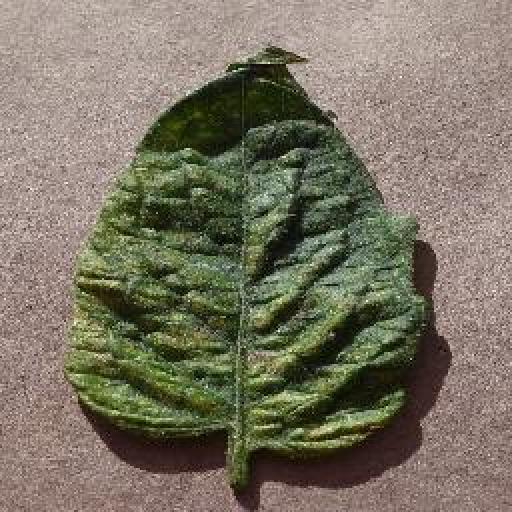disease_tomato: (69, 47, 428, 452)
